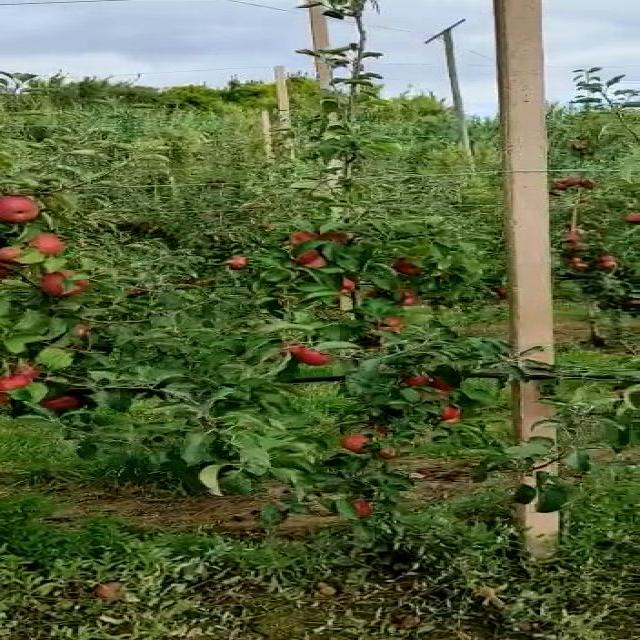100-_ripeness: (44, 268, 91, 300), (2, 196, 49, 225), (405, 367, 453, 395), (285, 340, 331, 368), (338, 431, 391, 455), (288, 224, 336, 247), (2, 365, 36, 393), (429, 400, 475, 420), (396, 258, 438, 279), (298, 253, 338, 273), (33, 234, 71, 253), (2, 245, 27, 270), (327, 277, 358, 294), (44, 394, 80, 408), (229, 255, 253, 267)
